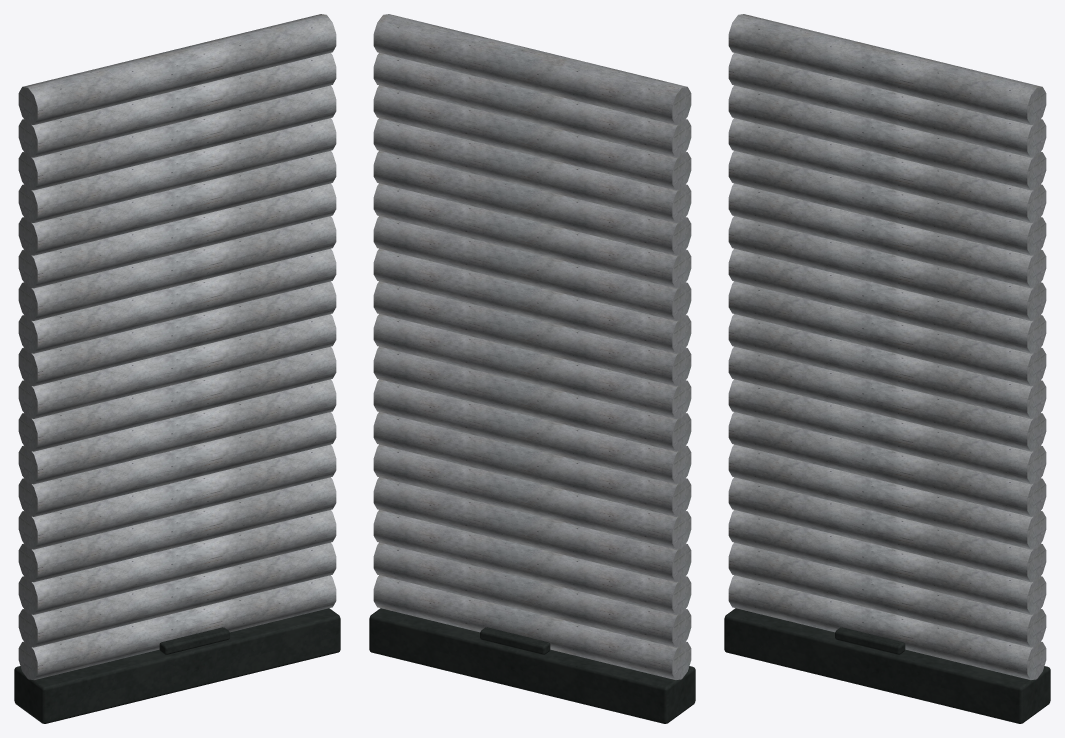
Rendered from door_shutter.glb.
The picture shows the model from 3 angles, left to right: view 1: azimuth 30°, elevation 25°; view 2: azimuth 150°, elevation 25°; view 3: azimuth 330°, elevation 25°; orthographic projection.
Visible parts, largest first — view 1: prop; view 2: prop; view 3: prop.
Boxes of the visible parts, x1,y1,x2,y2 form: prop: (14, 14, 340, 723); prop: (369, 14, 695, 723); prop: (724, 14, 1050, 723).
Bounding box in the file's own units: 1 × 2.01 × 0.24.
Materials: 2 (2 with a texture image).
